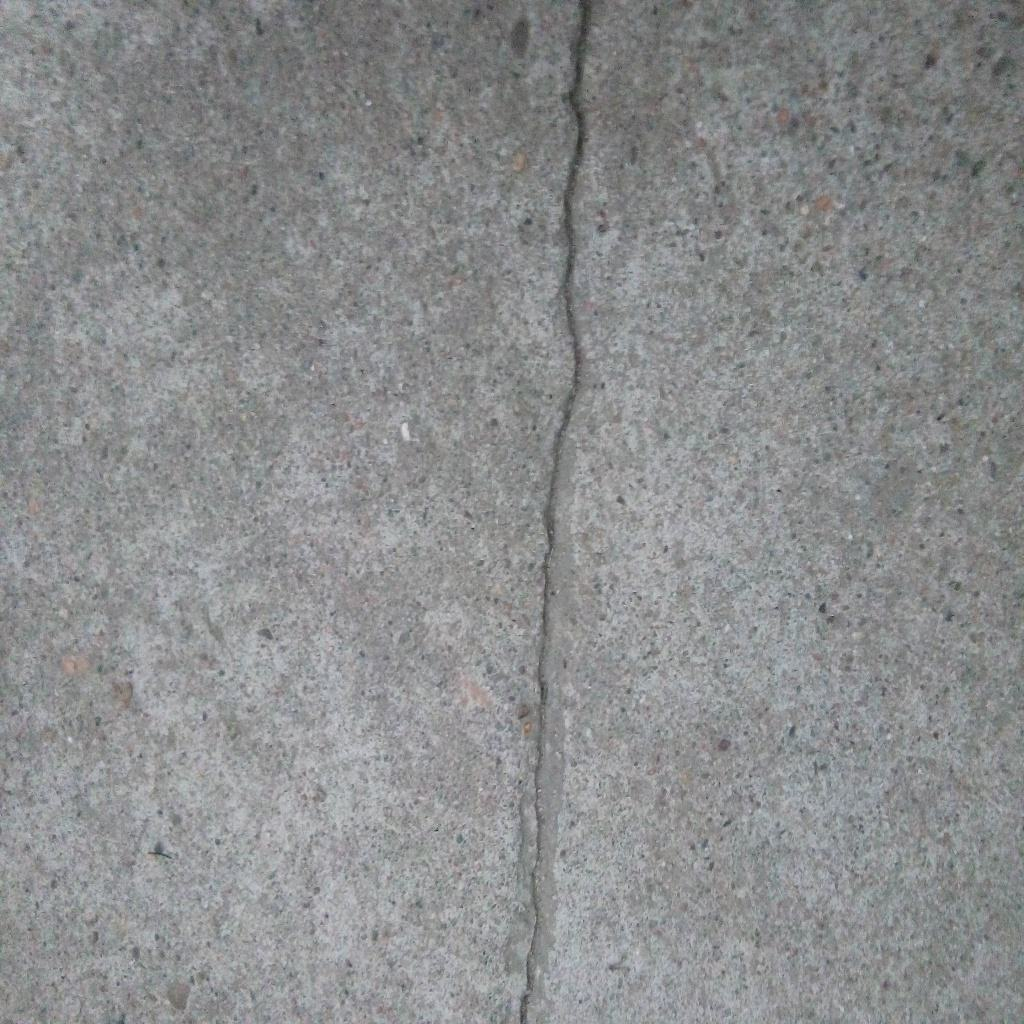Crack: (521, 1, 592, 1024)
